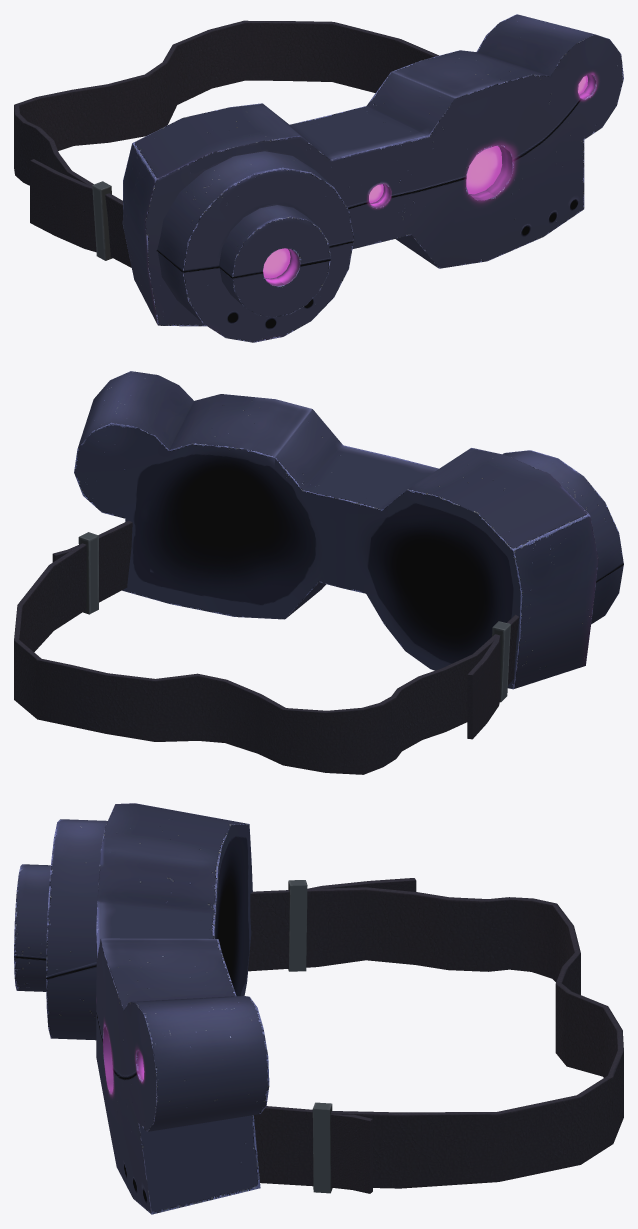
The model's file is glasses.gltf.
The picture shows the model from 3 angles, top to bottom: view 1: azimuth 30°, elevation 25°; view 2: azimuth 150°, elevation 25°; view 3: azimuth 270°, elevation 25°; orthographic projection. The views are drawn at different scales.
Parts seen in each view (by area): view 1: Plane001; view 2: Plane001; view 3: Plane001.
Part boxes in pixels (box(x1,y1,x2,y2)): Plane001: box(14, 14, 623, 342); Plane001: box(14, 371, 623, 774); Plane001: box(14, 803, 623, 1214).
Size of the model in its own units: 153 by 58.24 by 142.
Materials: 1 (1 with a texture image).
